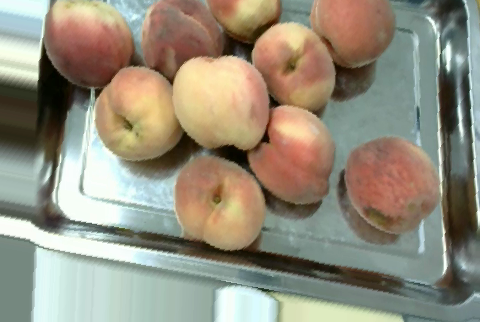Peach: (344, 136, 441, 232), (174, 55, 266, 149), (91, 66, 182, 161), (174, 154, 264, 250), (249, 104, 330, 206), (44, 0, 132, 86), (251, 21, 335, 111), (142, 0, 227, 70), (309, 0, 397, 67)
